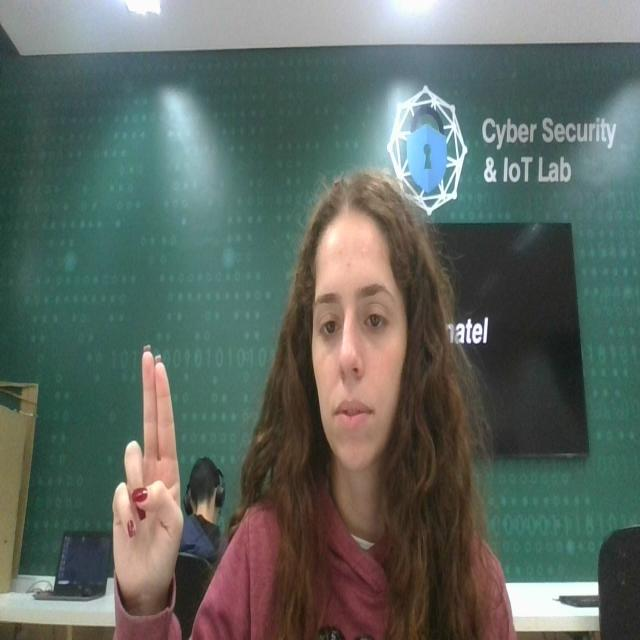U: (105, 336, 182, 616)
